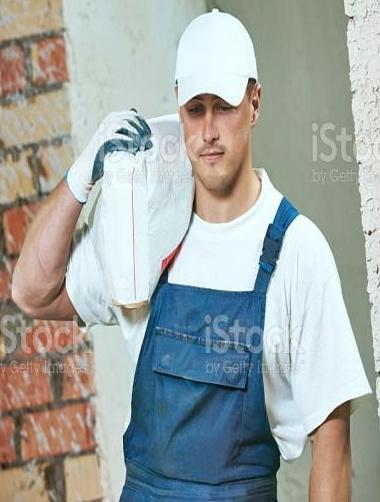no hat: (156, 1, 287, 136)
no vest: (107, 171, 324, 502)
